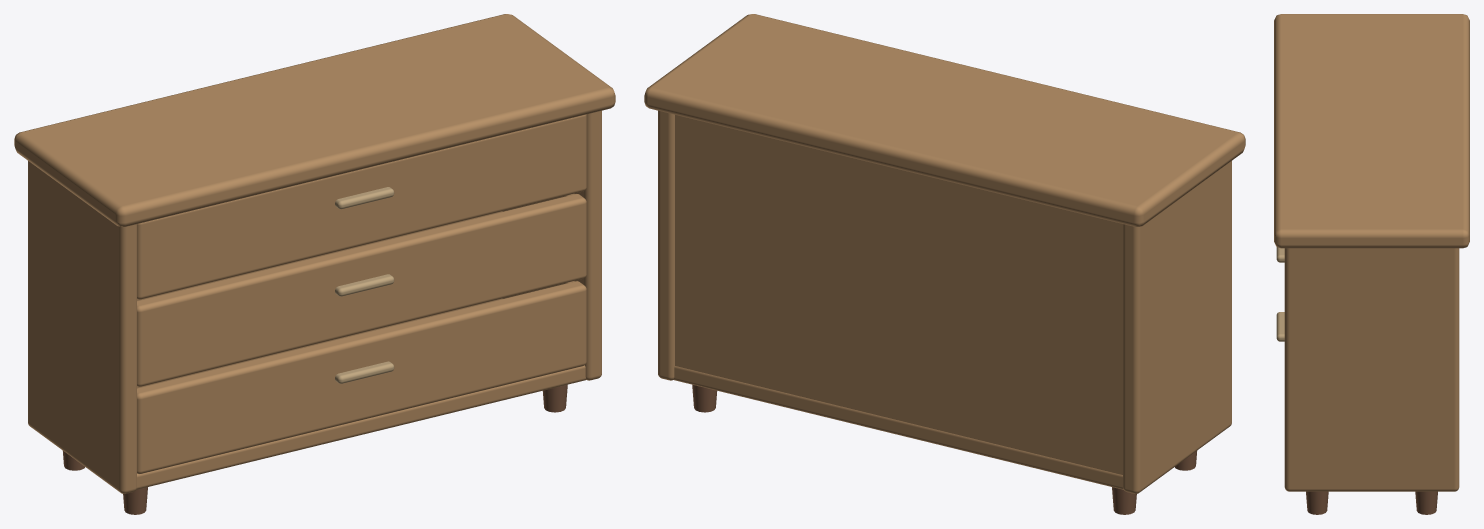
The model's file is dresser.glb.
The picture shows the model from 3 angles, left to right: view 1: azimuth 30°, elevation 25°; view 2: azimuth 150°, elevation 25°; view 3: azimuth 270°, elevation 25°; orthographic projection. The views are drawn at different scales.
Parts seen in each view (by area): view 1: solid-dresser-top, dresser-drawer-1-front, dresser-drawer-0-front, dresser-drawer-2-front, dresser-case-side--1, dresser-case-base, dresser-case-side-1, dresser-case-back; view 2: dresser-case-back, solid-dresser-top, dresser-case-side--1, dresser-case-base, dresser-case-side-1; view 3: solid-dresser-top, dresser-case-side-1, cabinet-foot-1--1, cabinet-foot-1-1, dresser-drawer-0-pull.
Part boxes in pixels (left/top/right/bottom): solid-dresser-top: left=14, top=14, right=615, bottom=226; dresser-drawer-1-front: left=137, top=194, right=586, bottom=386; dresser-drawer-0-front: left=137, top=281, right=586, bottom=474; dresser-drawer-2-front: left=137, top=114, right=586, bottom=299; dresser-case-side--1: left=28, top=161, right=136, bottom=493; dresser-case-base: left=136, top=365, right=586, bottom=489; dresser-case-side-1: left=502, top=110, right=601, bottom=380; dresser-case-back: left=137, top=211, right=502, bottom=387; dresser-case-back: left=675, top=115, right=1122, bottom=474; solid-dresser-top: left=644, top=14, right=1245, bottom=226; dresser-case-side--1: left=1123, top=161, right=1231, bottom=493; dresser-case-base: left=673, top=366, right=1123, bottom=489; dresser-case-side-1: left=658, top=110, right=674, bottom=380; solid-dresser-top: left=1274, top=14, right=1469, bottom=248; dresser-case-side-1: left=1284, top=248, right=1459, bottom=491; cabinet-foot-1--1: left=1415, top=491, right=1437, bottom=514; cabinet-foot-1-1: left=1306, top=491, right=1328, bottom=514; dresser-drawer-0-pull: left=1276, top=312, right=1284, bottom=341.
Bounding box in the file's own units: 1.6 × 1 × 0.6.
